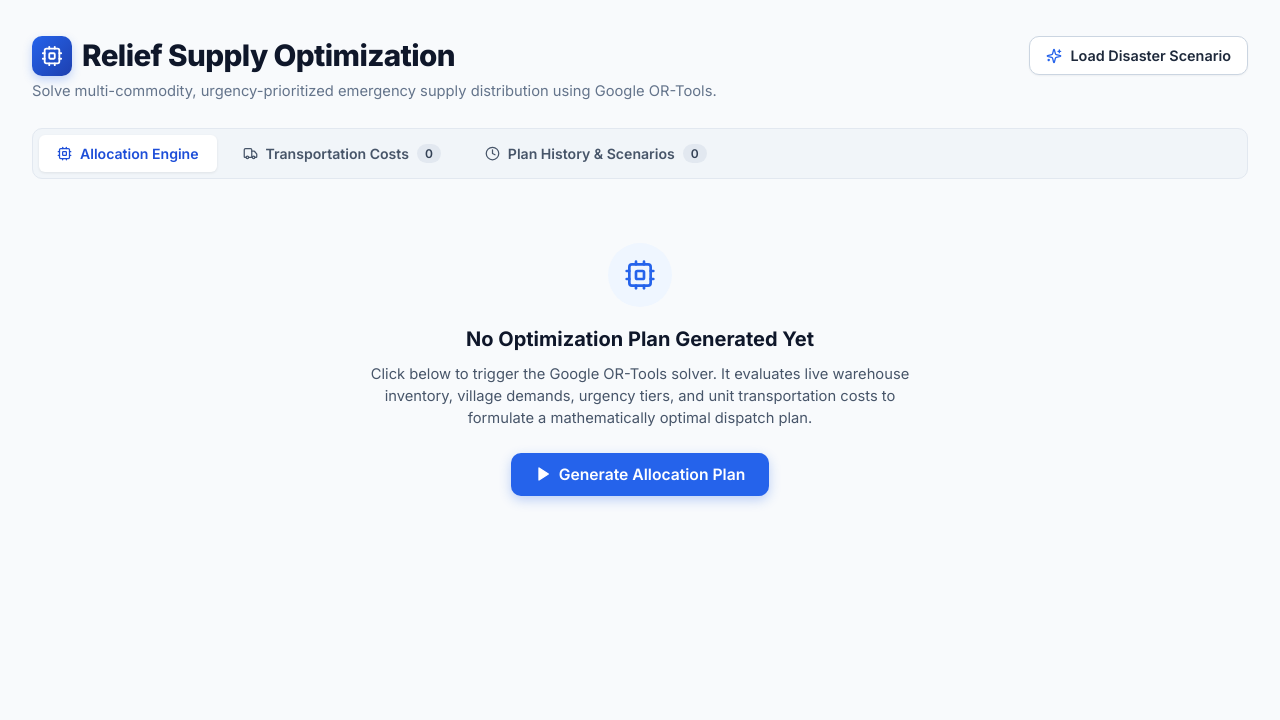
Optimization Engine Page (OptimizationPage.jsx) › Transportation Matrix Batch Grid › enters batch grid editor mode and displays editable inputs
Click the button "Transportation Costs 0".
click(342, 153)  # box [225, 134, 459, 172]
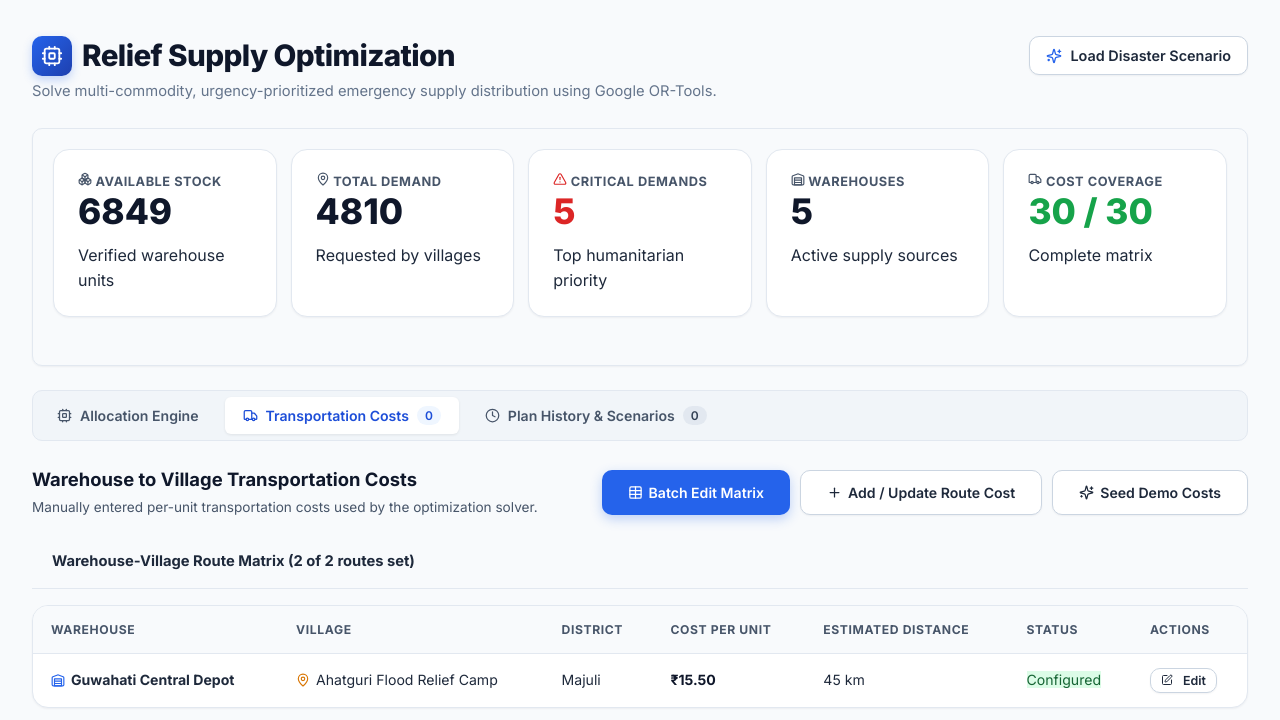
expect the text "Warehouse-Village Route Matrix (2 of 2 routes set)" is shown: met, box [52, 550, 415, 574]
Click the button "Batch Edit Matrix".
click(696, 492)  # box [602, 470, 790, 515]
(page scrolled)
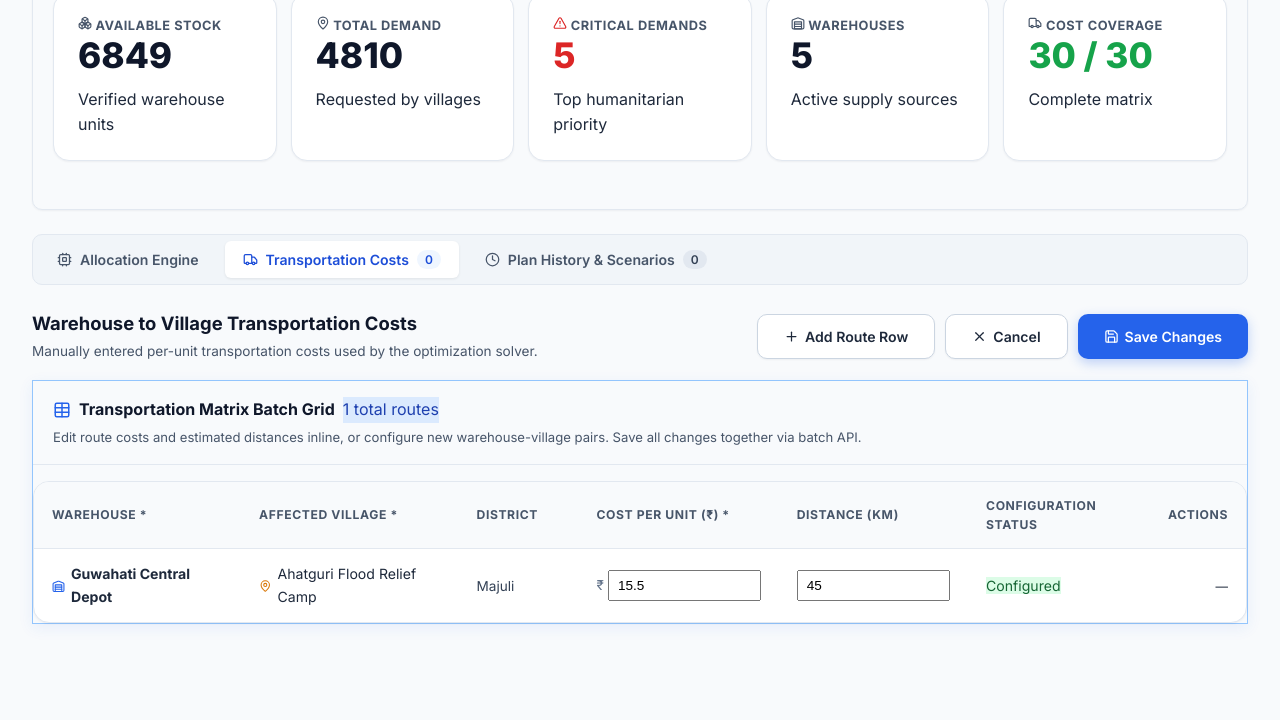
expect the heading "Transportation Matrix Batch Grid" is shown: met, box [79, 397, 335, 423]
expect the button "Save Changes" is shown: met, box [1078, 314, 1248, 359]
expect the button "Cancel" is shown: met, box [945, 314, 1068, 359]
